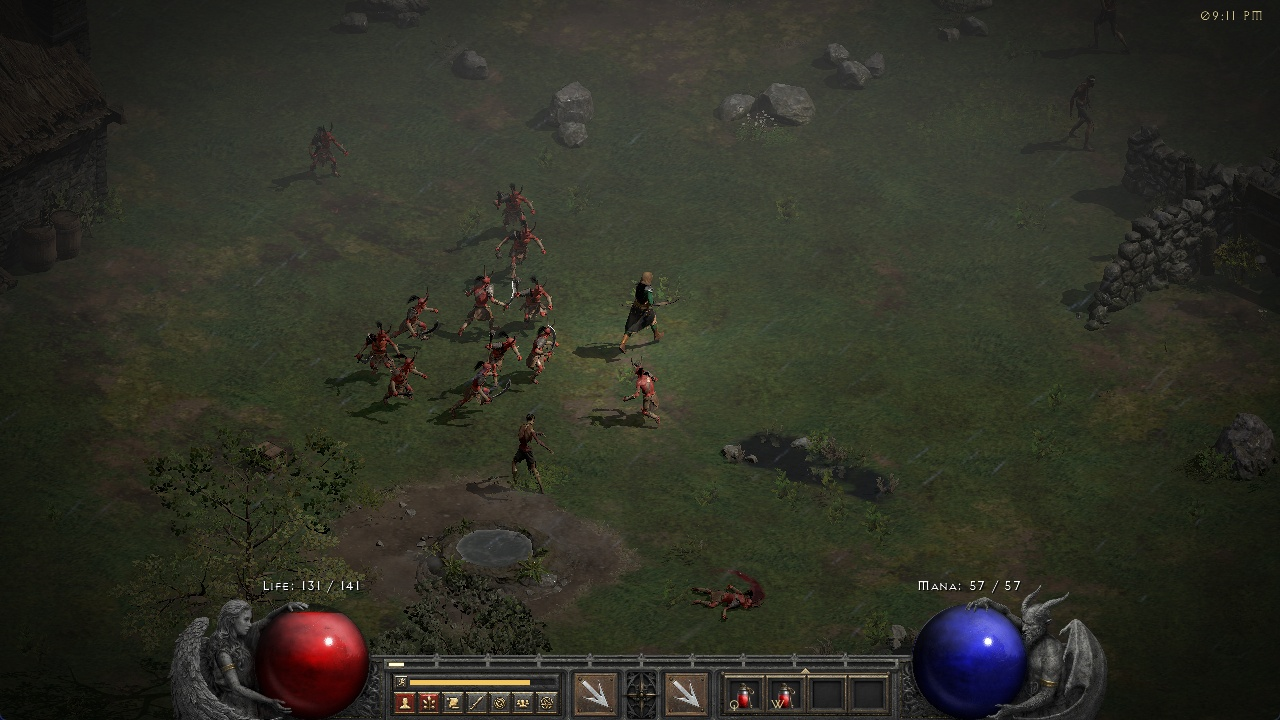fallen: (621, 357, 679, 431), (301, 126, 365, 186), (493, 224, 556, 276), (458, 364, 518, 416), (396, 289, 451, 342), (459, 275, 509, 326), (381, 351, 430, 401), (487, 182, 536, 223), (525, 328, 562, 381), (510, 276, 554, 320), (358, 322, 400, 363), (482, 329, 522, 364)
